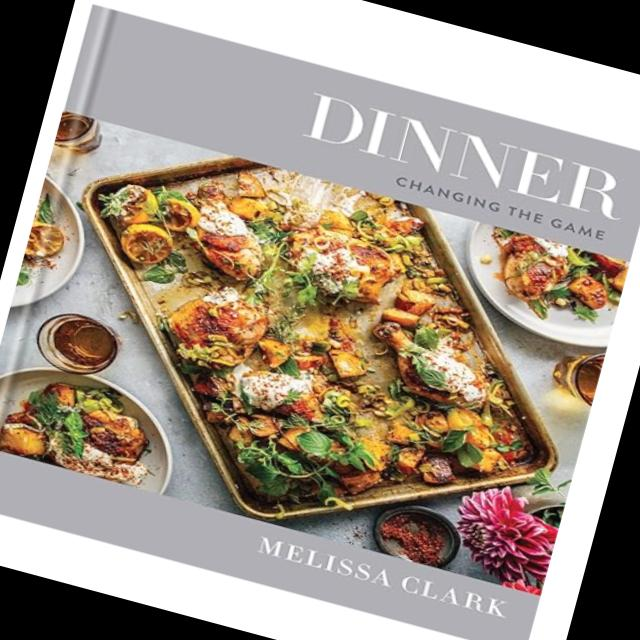titles-or-authors: (290, 82, 640, 250), (243, 522, 528, 633)
